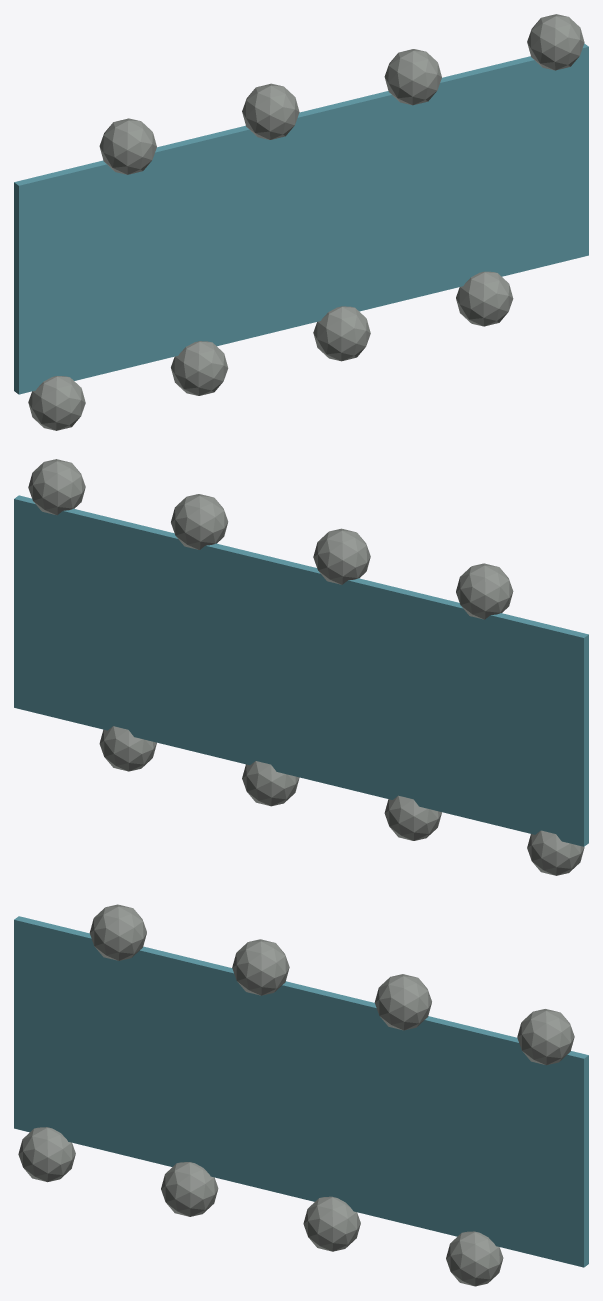
File: river_segment.glb
3 renders of one model, top to bottom at view 1: azimuth 30°, elevation 25°; view 2: azimuth 150°, elevation 25°; view 3: azimuth 330°, elevation 25°, orthographic.
Visible parts, largest first — view 1: water, bankrock3, bankrock5, bankrock7, bankrock1, bankrock4, bankrock6, bankrock0, bankrock2; view 2: water, bankrock7, bankrock1, bankrock3, bankrock5, bankrock0, bankrock4, bankrock2, bankrock6; view 3: water, bankrock1, bankrock7, bankrock5, bankrock3, bankrock6, bankrock0, bankrock4, bankrock2.
Boxes of the visible parts, x1,y1,x2,y2 form: water: (14,43,588,394); bankrock3: (242,83,299,139); bankrock5: (384,49,441,105); bankrock7: (527,14,584,70); bankrock1: (99,118,156,174); bankrock4: (313,306,370,361); bankrock6: (456,271,513,326); bankrock0: (28,376,85,430); bankrock2: (171,341,228,395); water: (14,495,588,846); bankrock7: (28,459,85,515); bankrock1: (456,563,513,619); bankrock3: (313,528,370,584); bankrock5: (171,494,228,549); bankrock0: (527,830,584,875); bankrock4: (242,761,299,806); bankrock2: (384,795,441,840); bankrock6: (99,726,156,771); water: (14,916,588,1267); bankrock1: (89,904,146,960); bankrock7: (517,1009,574,1065); bankrock5: (374,974,431,1030); bankrock3: (232,939,289,995); bankrock6: (446,1231,503,1286); bankrock0: (18,1127,75,1182); bankrock4: (303,1196,360,1251); bankrock2: (161,1162,218,1216).
Size of the model in its own units: 8 by 3.9 by 0.7.
